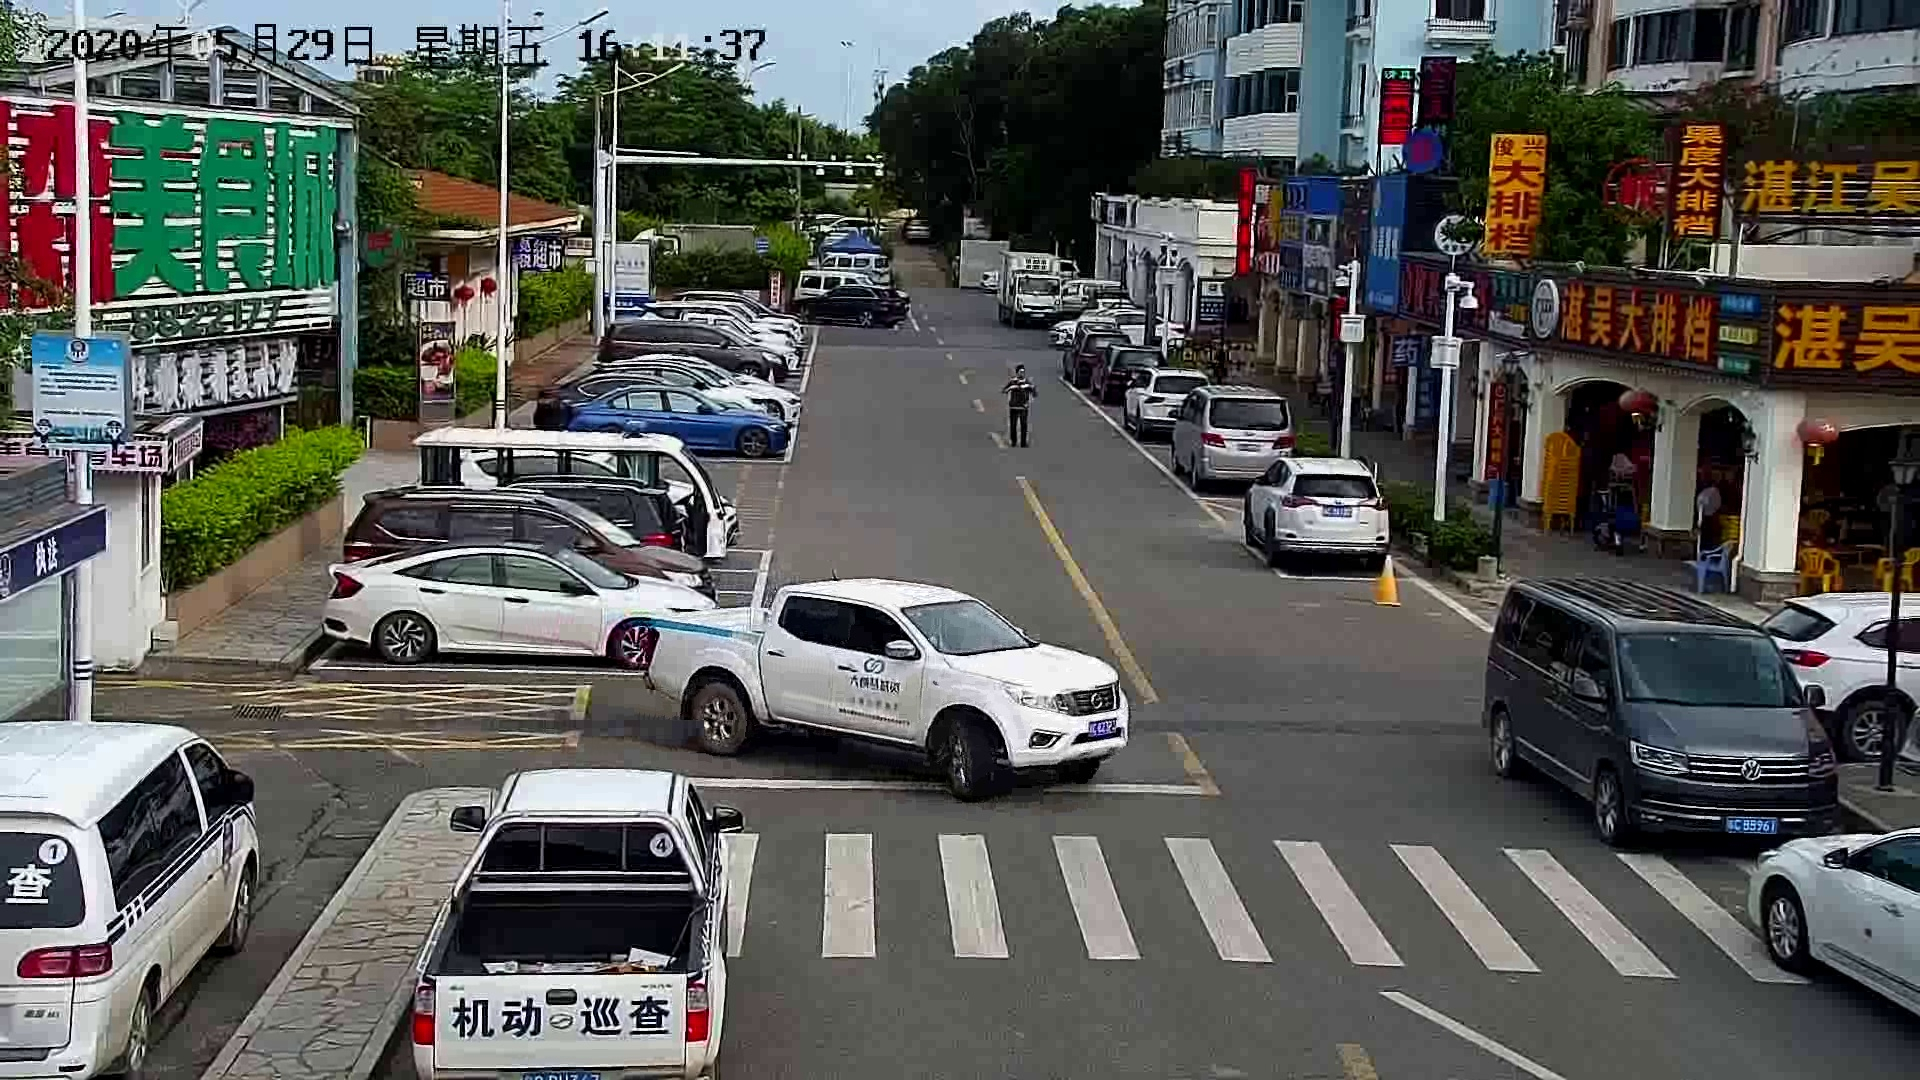chair: (1540, 431, 1580, 535), (1874, 547, 1917, 592), (1797, 549, 1840, 592), (1696, 545, 1729, 593)
table: (1797, 539, 1884, 591)
table_chair: (1796, 538, 1917, 593)
uncertain: (1607, 452, 1636, 510), (1720, 514, 1741, 549)
